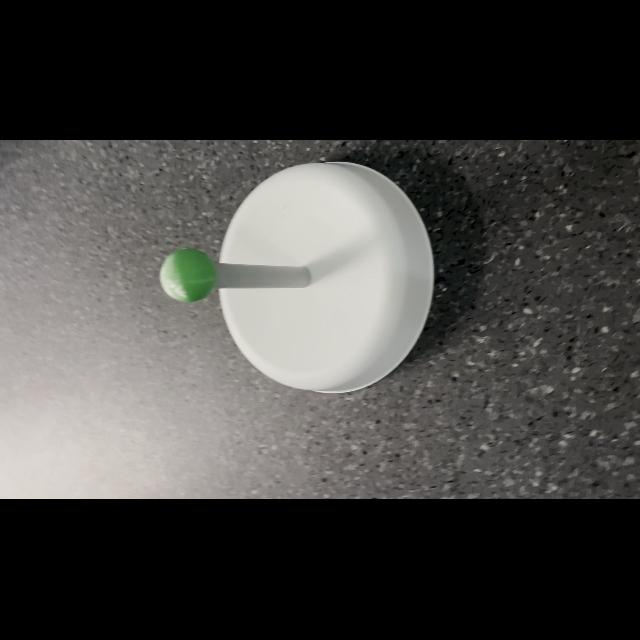objects: (154, 246, 220, 308)
